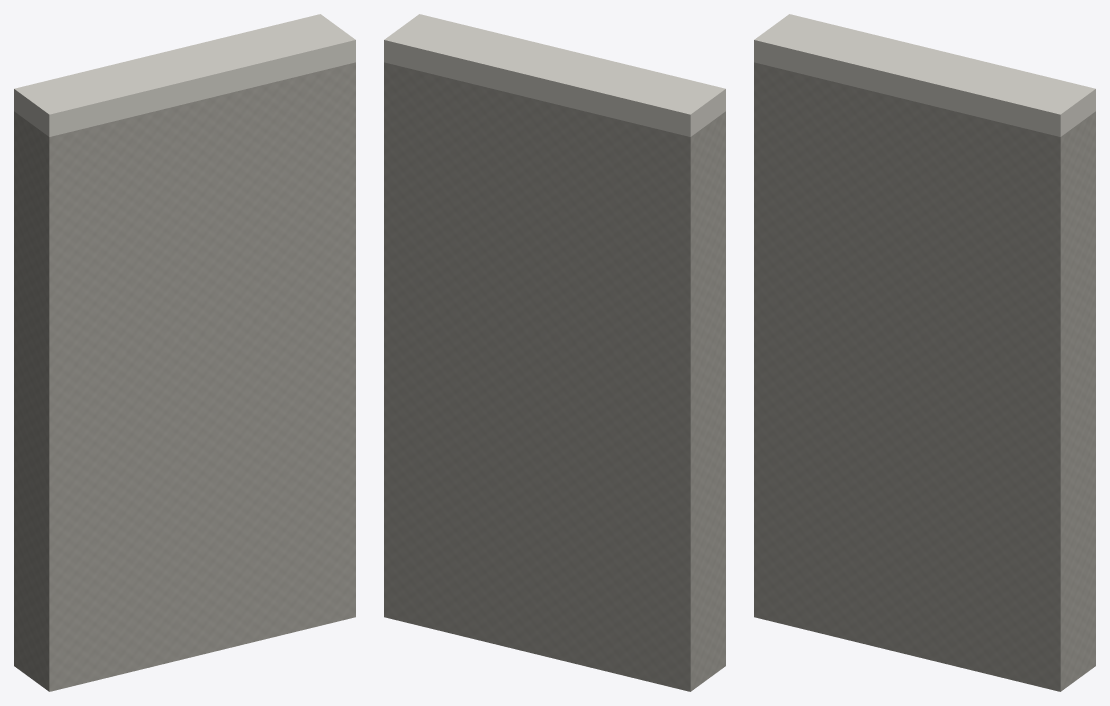
File: MPS_Boundary_Wall_Straight_1m.fbx
The picture shows the model from 3 angles, left to right: view 1: azimuth 30°, elevation 25°; view 2: azimuth 150°, elevation 25°; view 3: azimuth 330°, elevation 25°; orthographic projection.
Visible parts, largest first — view 1: Body; view 2: Body; view 3: Body.
Part boxes in pixels (<box>): Body: <box>14,14,355,691</box>; Body: <box>384,14,725,691</box>; Body: <box>754,14,1095,691</box>.
Bounding box in the file's own units: 1 × 1.8 × 0.2.
